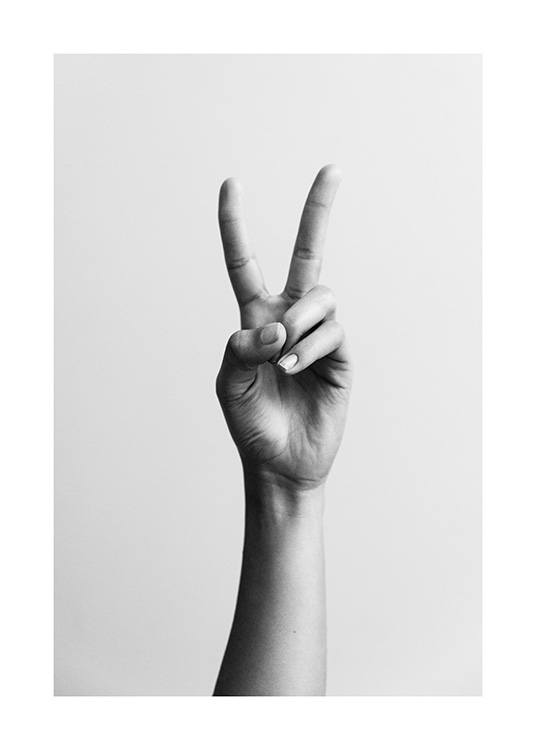peacesign: (197, 160, 355, 322)
